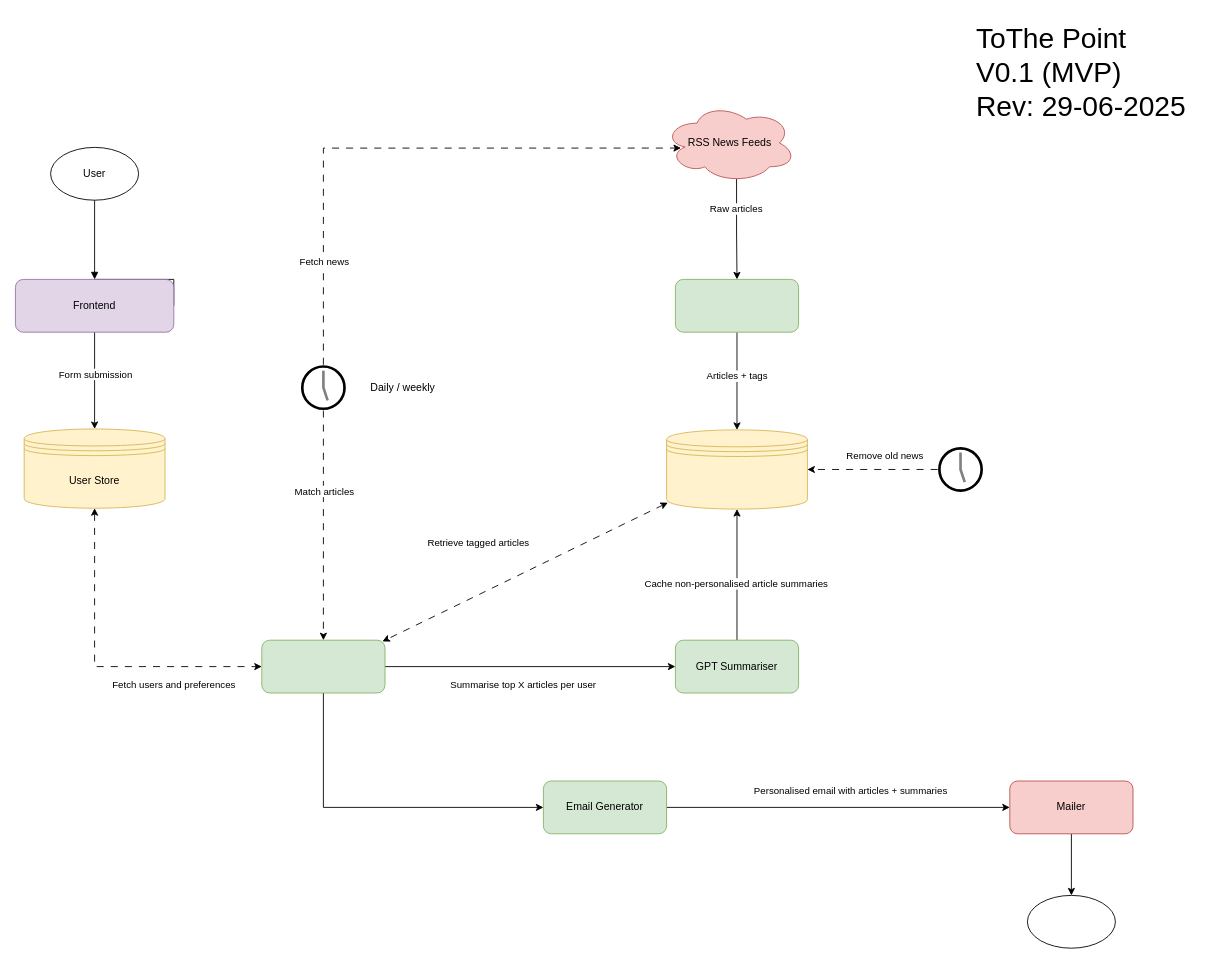
The diagram is 1219 pixels wide and 964 high, and some of its shapes have lost their labels. The centre of each missing label's shape, as x and y in pixels:
Article Matcher: (x=323, y=666)
Article Tagger: (x=737, y=305)
News Cache: (x=736, y=469)
User Inbox: (x=1071, y=921)
